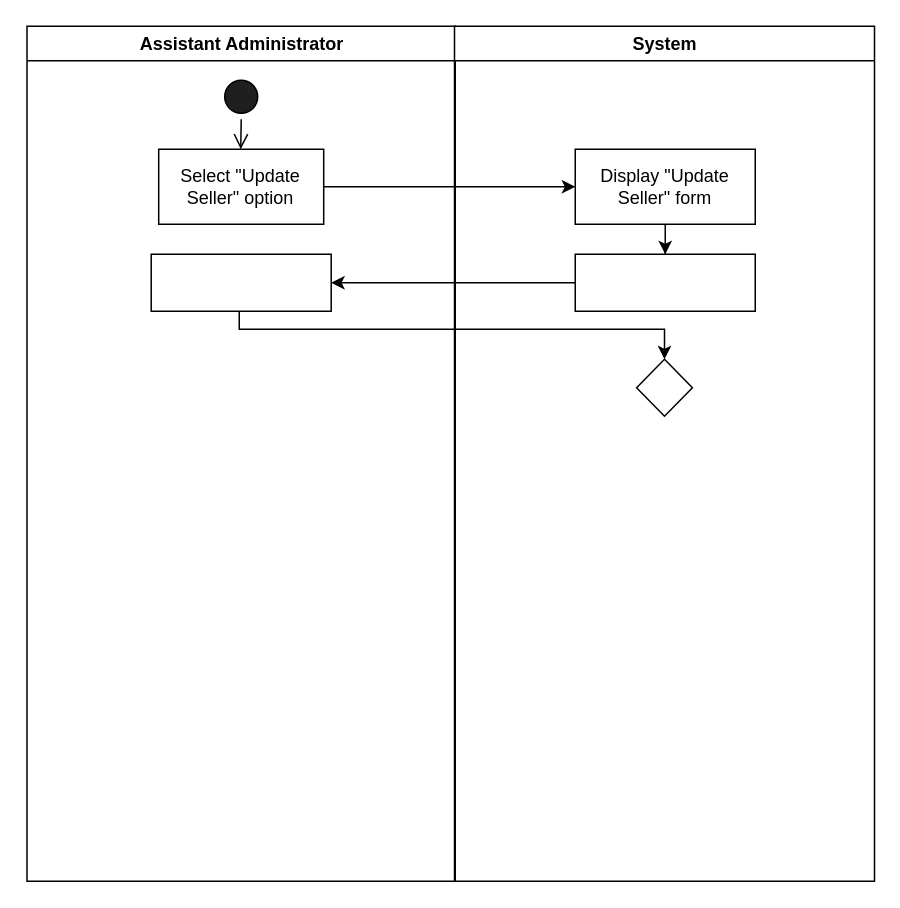
Some shapes in this 900 by 908 pixel diagram are drawn without their labels. The shapes that lost their labels are listed below. From the top down, each one's centre as x and y in pixels, then its label:
At (x=240, y=282): "Select option".
At (x=664, y=282): "List all sellers".
